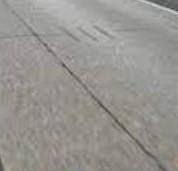crack: (15, 13, 168, 171)
